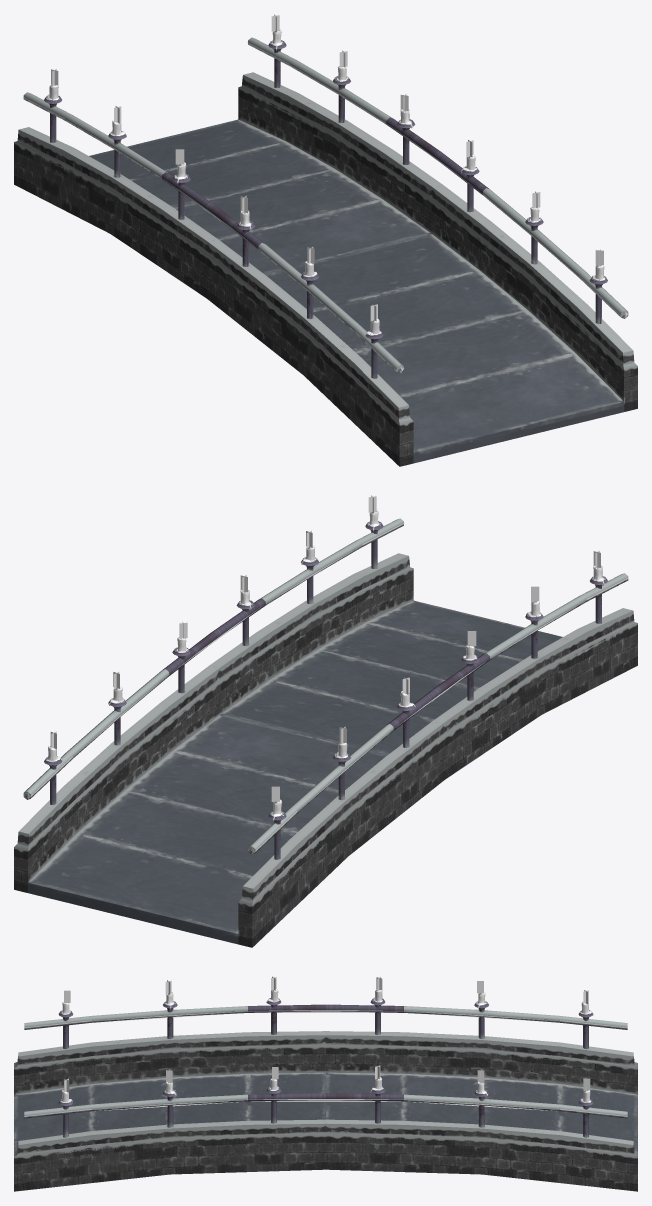
File: objects_un_t08bridge01.gltf
The picture shows the model from 3 angles, top to bottom: view 1: azimuth 30°, elevation 25°; view 2: azimuth 150°, elevation 25°; view 3: azimuth 270°, elevation 25°; orthographic projection. The views are drawn at different scales.
Visible parts, largest first — view 1: um_objects_un_t08bridge01_model_lod0Shape:objects_un_t08brid (×2), um_objects_un_t08bridge01_model_lod1Shape:objects_un_t08brid, um_objects_un_t08bridge01_model_lod2Shape:objects_un_t08brid, nomerge_flame_shape:objects_un_t08candlestand02_flame01, um_objects_un_t08bridge01_model_lod0Shape:objects_un_t08cand; view 2: um_objects_un_t08bridge01_model_lod0Shape:objects_un_t08brid (×2), um_objects_un_t08bridge01_model_lod1Shape:objects_un_t08brid, um_objects_un_t08bridge01_model_lod2Shape:objects_un_t08brid, um_objects_un_t08bridge01_model_lod0Shape:objects_un_t08cand, nomerge_flame_shape:objects_un_t08candlestand02_flame01; view 3: um_objects_un_t08bridge01_model_lod0Shape:objects_un_t08brid (×2), um_objects_un_t08bridge01_model_lod1Shape:objects_un_t08brid, um_objects_un_t08bridge01_model_lod2Shape:objects_un_t08brid, um_objects_un_t08bridge01_model_lod0Shape:objects_un_t08cand, nomerge_flame_shape:objects_un_t08candlestand02_flame01.
Part boxes in pixels (bbox=[...]): um_objects_un_t08bridge01_model_lod0Shape:objects_un_t08brid (×2): bbox=[14, 37, 637, 466]; um_objects_un_t08bridge01_model_lod1Shape:objects_un_t08brid: bbox=[14, 64, 623, 465]; um_objects_un_t08bridge01_model_lod2Shape:objects_un_t08brid: bbox=[17, 44, 634, 419]; nomerge_flame_shape:objects_un_t08candlestand02_flame01: bbox=[51, 14, 603, 320]; um_objects_un_t08bridge01_model_lod0Shape:objects_un_t08cand: bbox=[48, 28, 605, 336]; um_objects_un_t08bridge01_model_lod0Shape:objects_un_t08brid (×2): bbox=[14, 518, 637, 947]; um_objects_un_t08bridge01_model_lod1Shape:objects_un_t08brid: bbox=[28, 545, 637, 946]; um_objects_un_t08bridge01_model_lod2Shape:objects_un_t08brid: bbox=[17, 525, 634, 900]; um_objects_un_t08bridge01_model_lod0Shape:objects_un_t08cand: bbox=[46, 509, 604, 820]; nomerge_flame_shape:objects_un_t08candlestand02_flame01: bbox=[50, 495, 600, 801]; um_objects_un_t08bridge01_model_lod0Shape:objects_un_t08brid (×2): bbox=[14, 998, 637, 1191]; um_objects_un_t08bridge01_model_lod1Shape:objects_un_t08brid: bbox=[14, 1009, 637, 1191]; um_objects_un_t08bridge01_model_lod2Shape:objects_un_t08brid: bbox=[17, 999, 634, 1154]; um_objects_un_t08bridge01_model_lod0Shape:objects_un_t08cand: bbox=[60, 989, 593, 1102]; nomerge_flame_shape:objects_un_t08candlestand02_flame01: bbox=[64, 976, 590, 1092].
Size of what is drawn, in the model's own units: 5.53 by 3.32 by 15.36.
4 materials, 1 textured.
